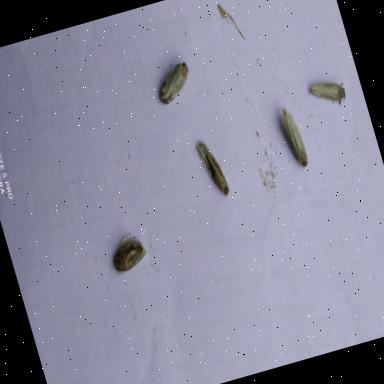pbw: (190, 132, 237, 206), (146, 54, 202, 115), (276, 97, 314, 172), (104, 227, 154, 281), (304, 69, 354, 117)
